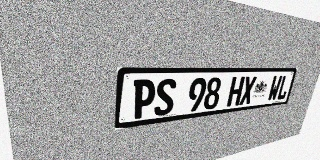8: (203, 77, 223, 110)
9: (186, 78, 208, 112)
H: (226, 77, 245, 107)
L: (276, 75, 291, 100)
P: (131, 79, 156, 119)
S: (153, 78, 177, 117)
W: (267, 75, 283, 101)
X: (239, 76, 257, 105)
